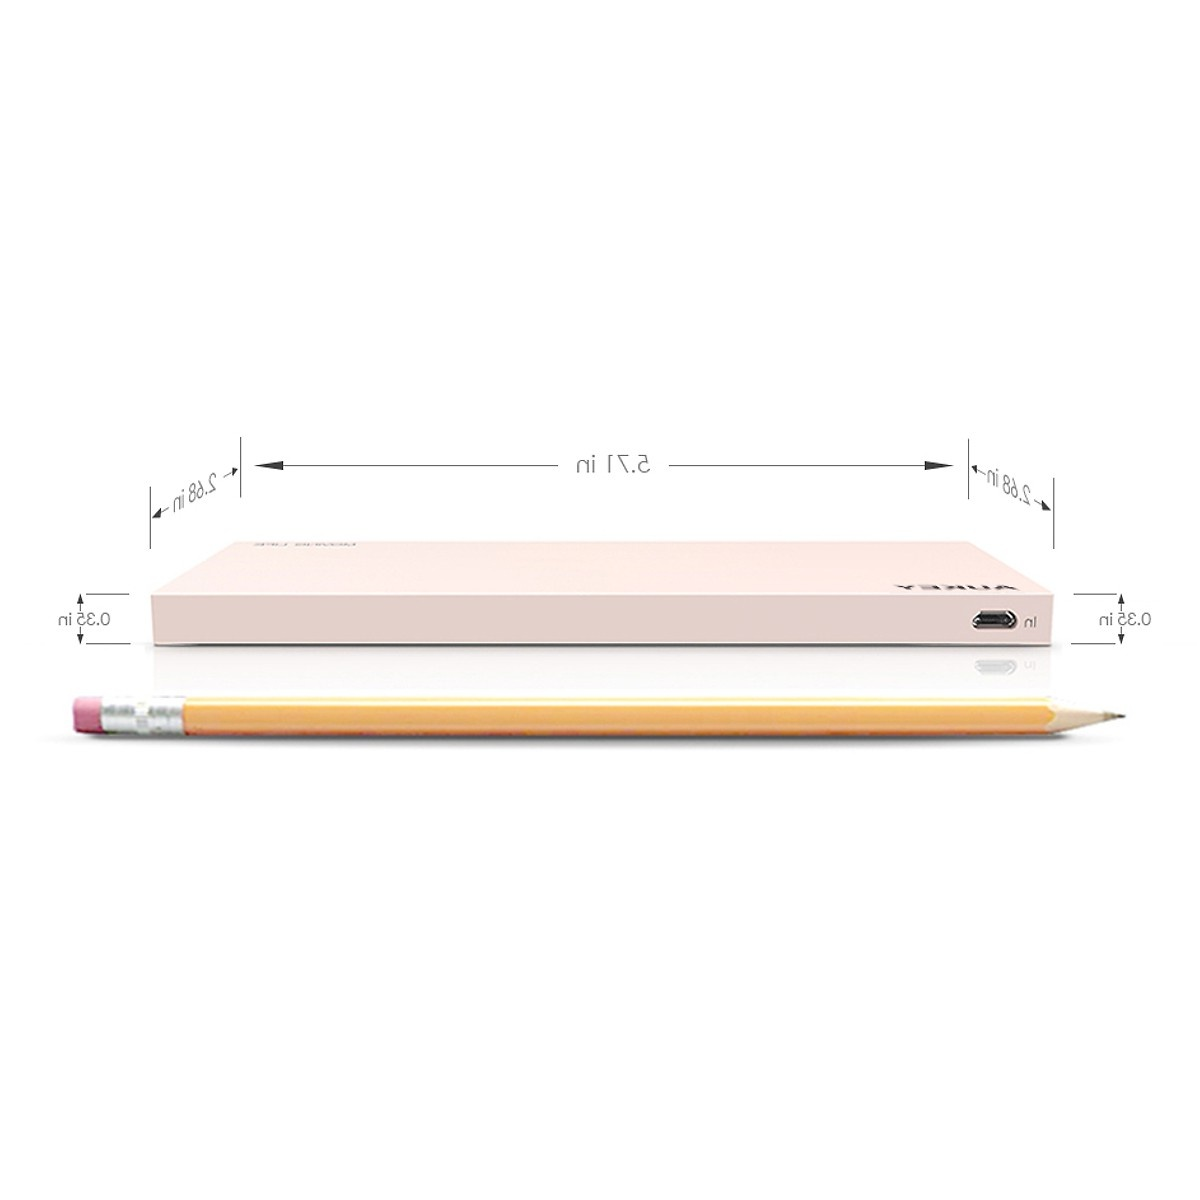Aukey: (836, 553, 1043, 673)
